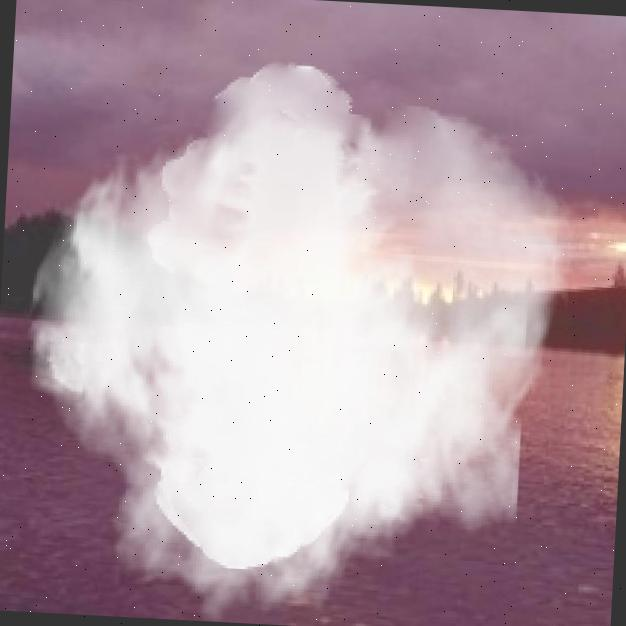smoke: (7, 49, 588, 626)
